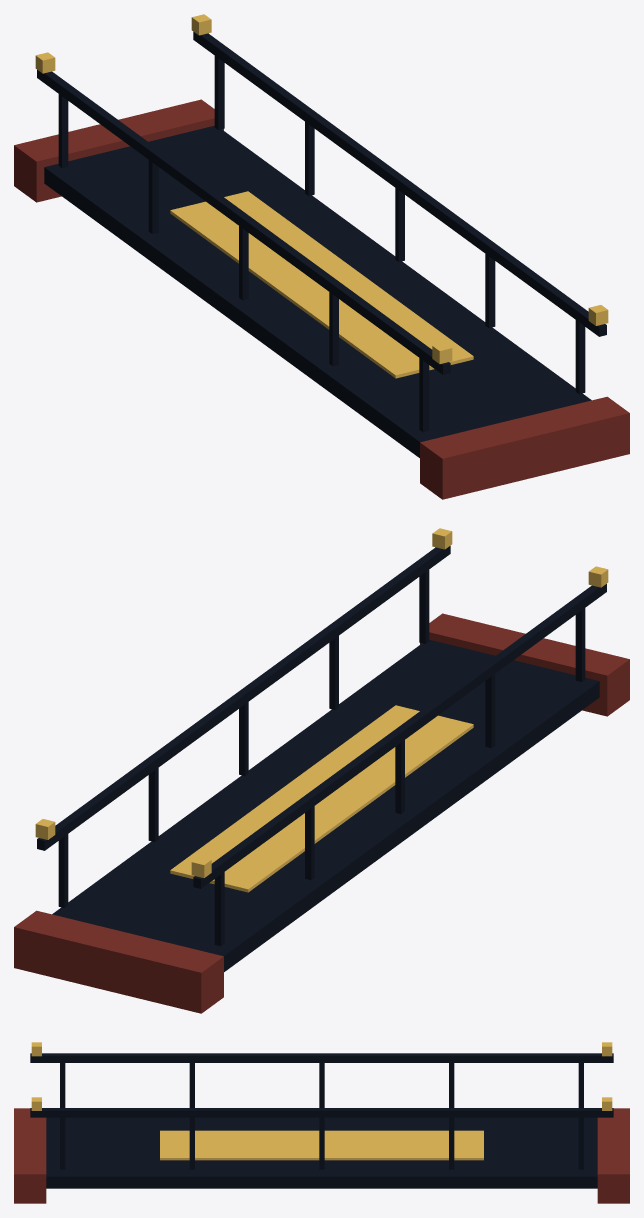
Rendered from bld_gum_bridge.glb.
The picture shows the model from 3 angles, top to bottom: view 1: azimuth 30°, elevation 25°; view 2: azimuth 150°, elevation 25°; view 3: azimuth 270°, elevation 25°; orthographic projection. The views are drawn at different scales.
Visible parts, largest first — view 1: bld_gum_bridge; view 2: bld_gum_bridge; view 3: bld_gum_bridge.
Part boxes in pixels (bbox=[...]): bld_gum_bridge: bbox=[14, 14, 629, 499]; bld_gum_bridge: bbox=[14, 528, 629, 1013]; bld_gum_bridge: bbox=[14, 1042, 629, 1203].
Size of the model in its own units: 2.4 by 1.68 by 9.5.
1 material, 1 textured.
